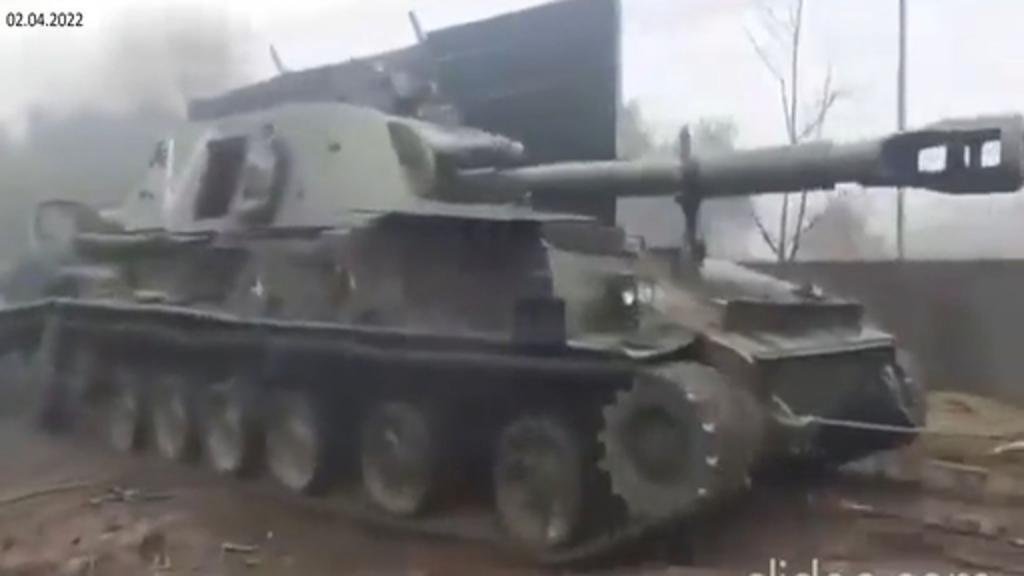ART: (10, 92, 1020, 566)
